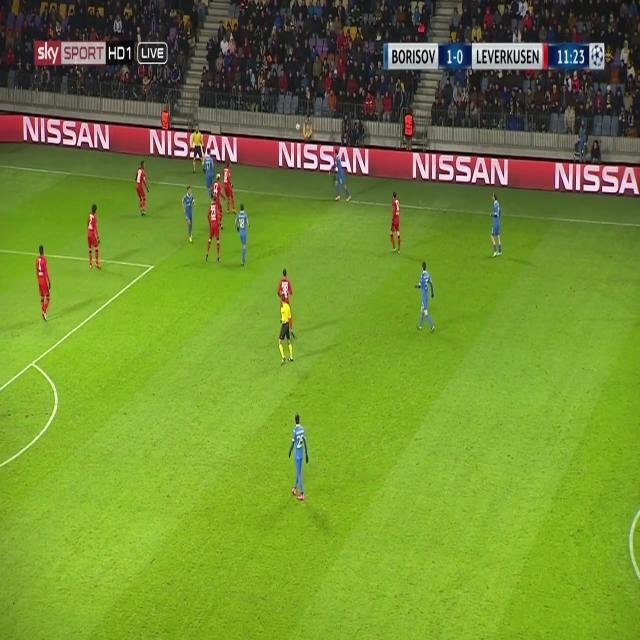Ball: (295, 120, 301, 133)
Player: (288, 412, 310, 502), (413, 260, 437, 338), (34, 241, 54, 323), (326, 149, 354, 203), (205, 194, 223, 266), (233, 201, 252, 269), (132, 159, 152, 219), (388, 188, 404, 257), (488, 190, 504, 259), (86, 203, 102, 271), (180, 185, 196, 243), (220, 161, 237, 215), (200, 145, 216, 199), (210, 170, 225, 211), (277, 268, 294, 304)
Referee: (276, 290, 294, 370), (189, 122, 205, 173)
